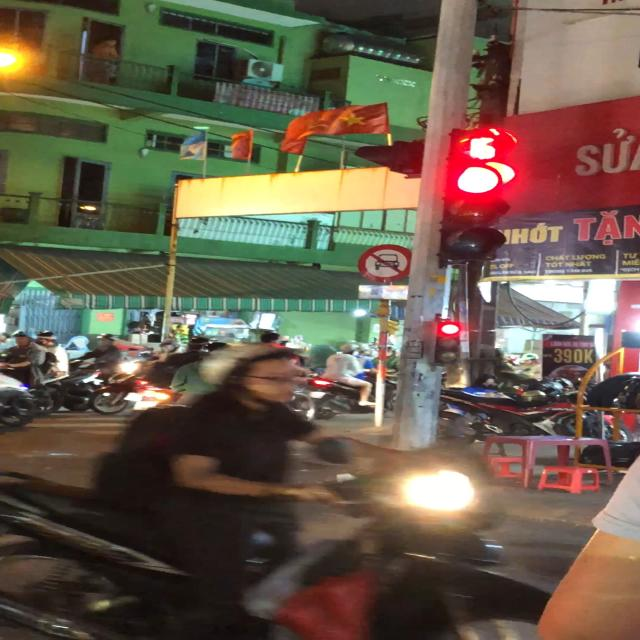Bien bao cam xe oto: (356, 242, 414, 284)
